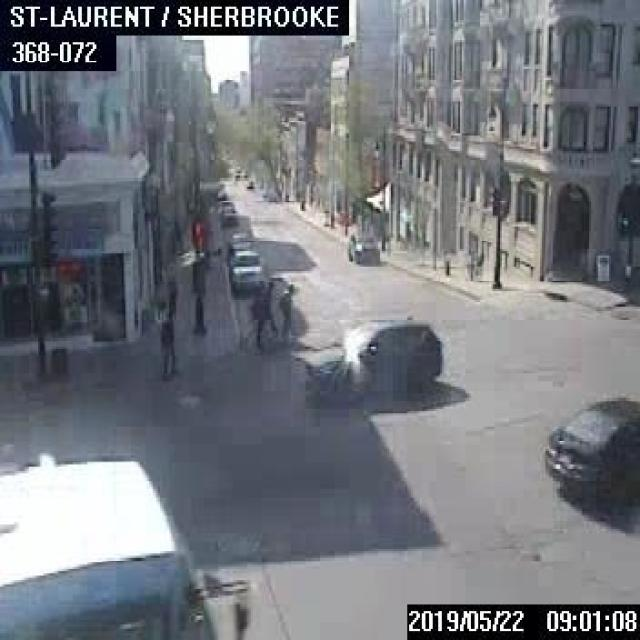bus: (0, 451, 247, 637)
pedestrian: (248, 276, 274, 346), (156, 311, 174, 374), (276, 280, 292, 340)
vehicle: (296, 313, 442, 398), (540, 391, 638, 502), (227, 248, 264, 290), (346, 228, 378, 263), (227, 231, 251, 247), (219, 205, 236, 223), (216, 198, 232, 212), (244, 175, 253, 188)
